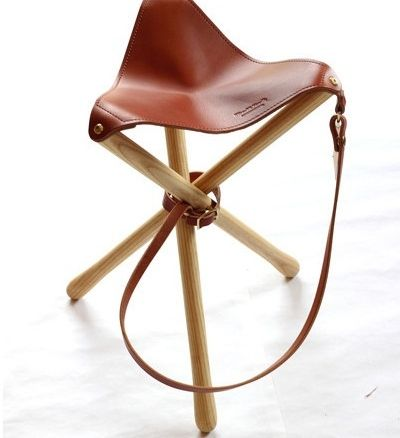cuero: (89, 1, 346, 393)
